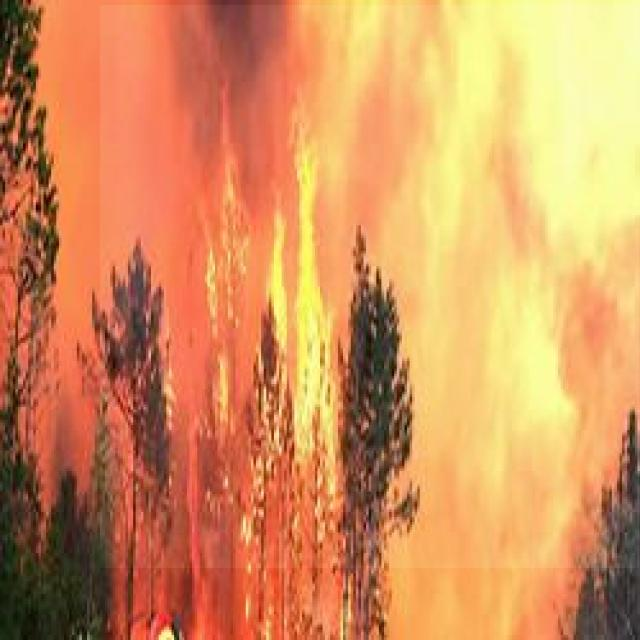Fire: (100, 5, 639, 568)
